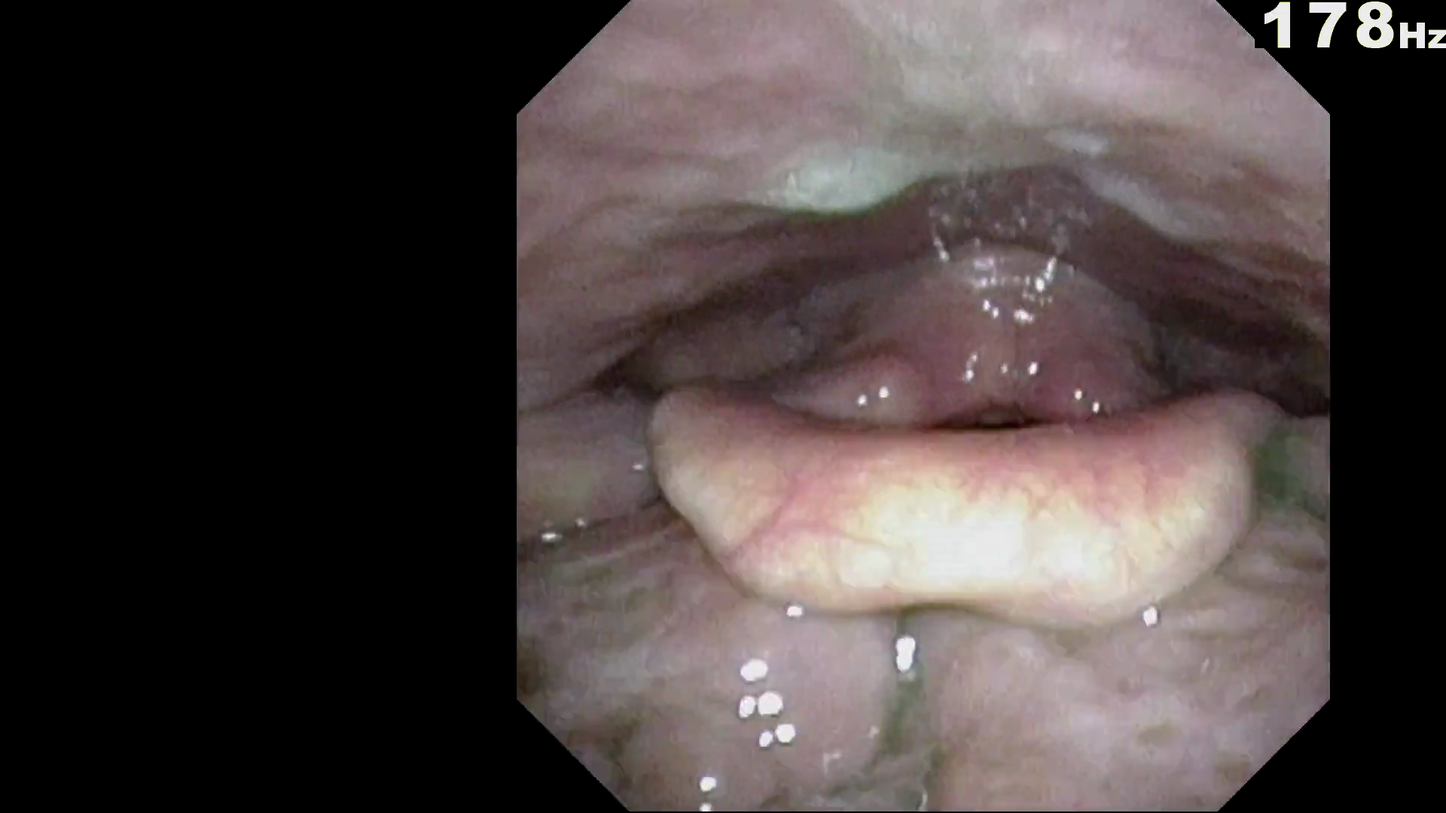epiglottis: (660, 433, 1252, 624)
trachea: (891, 394, 1046, 476)
